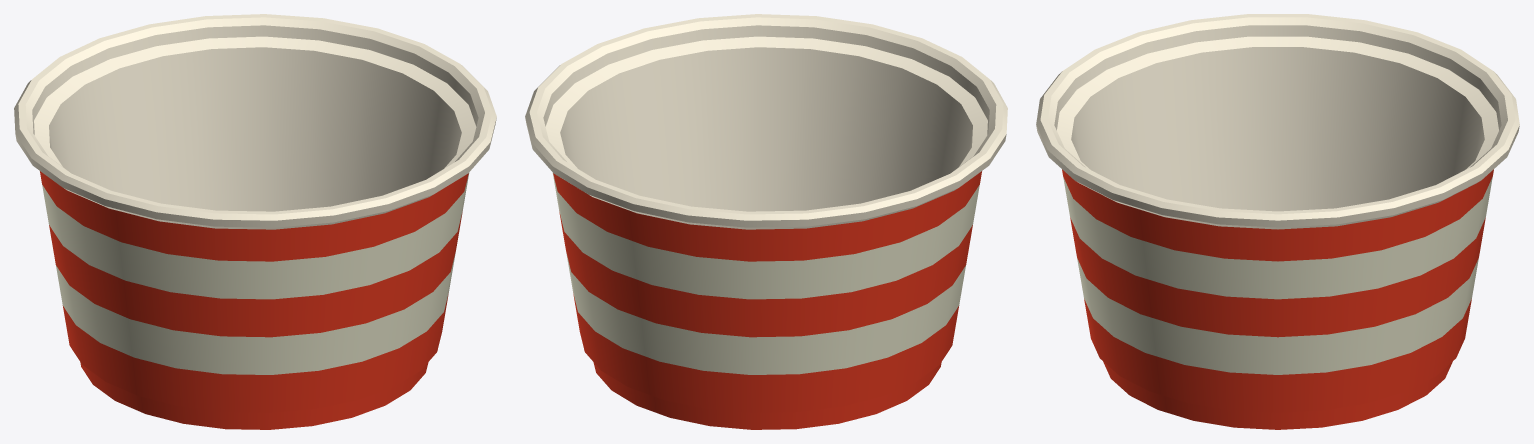
The model's file is Cup S Red White.fbx.
The picture shows the model from 3 angles, left to right: view 1: azimuth 30°, elevation 25°; view 2: azimuth 150°, elevation 25°; view 3: azimuth 270°, elevation 25°; orthographic projection.
Visible parts, largest first — view 1: Cup S Red White; view 2: Cup S Red White; view 3: Cup S Red White.
Boxes of the visible parts, x1,y1,x2,y2 form: Cup S Red White: (14, 14, 496, 429); Cup S Red White: (525, 14, 1007, 429); Cup S Red White: (1036, 14, 1519, 429).
Bounding box in the file's own units: 0.7531 × 0.4164 × 0.7546.
